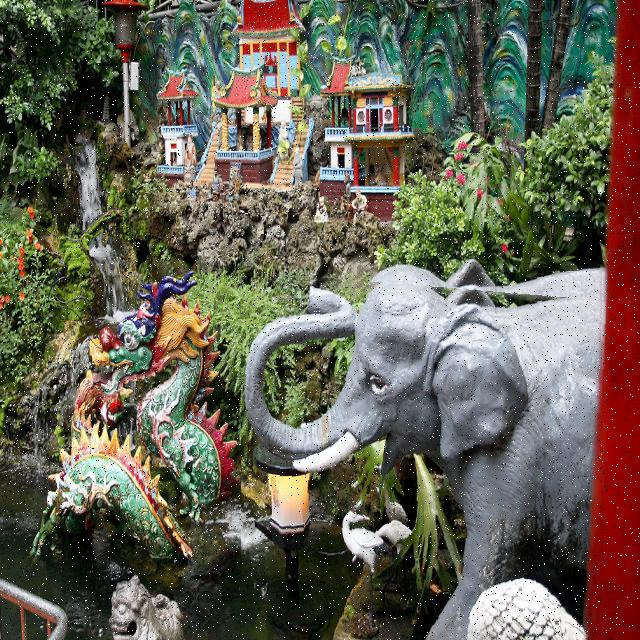elephant: (241, 271, 606, 640)
